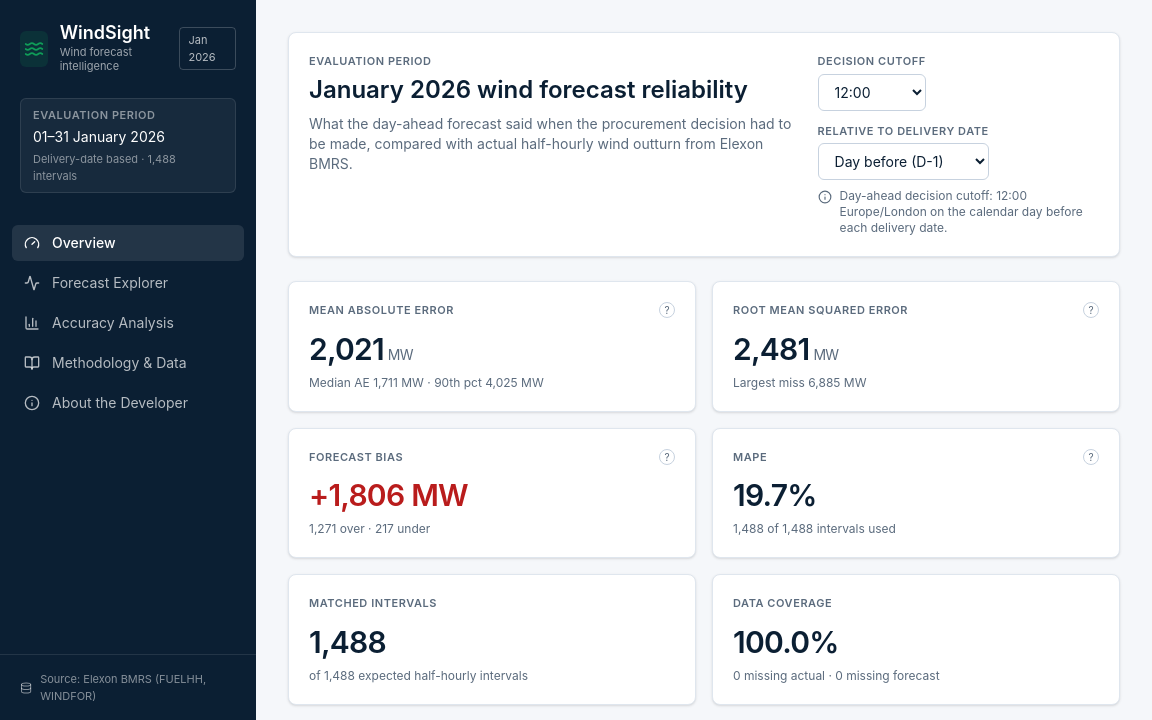
Test case: Application shell › keeps the evaluation period visible while navigating
Click the link "About the Developer": {"x": 106, "y": 402} [24,394,188,411]
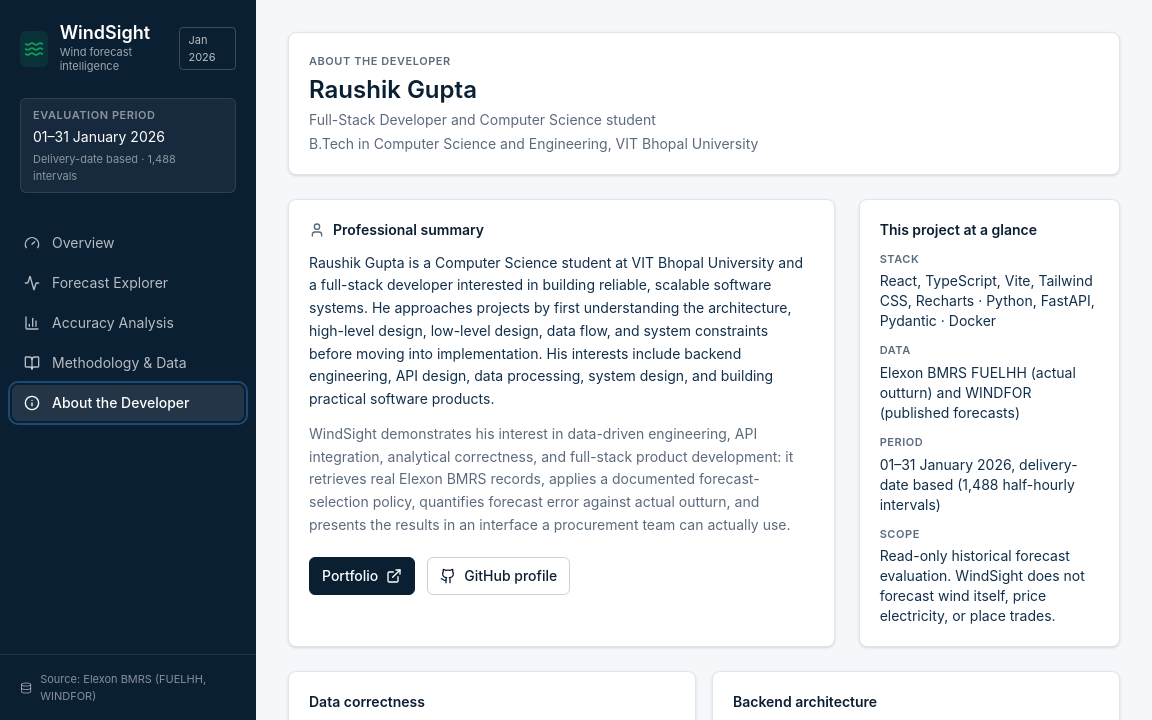
Check: the text "01–31 January 2026" is shown, box [33,128,165,145]
Check: the heading "Raushik Gupta" is shown, box [309,74,477,104]
